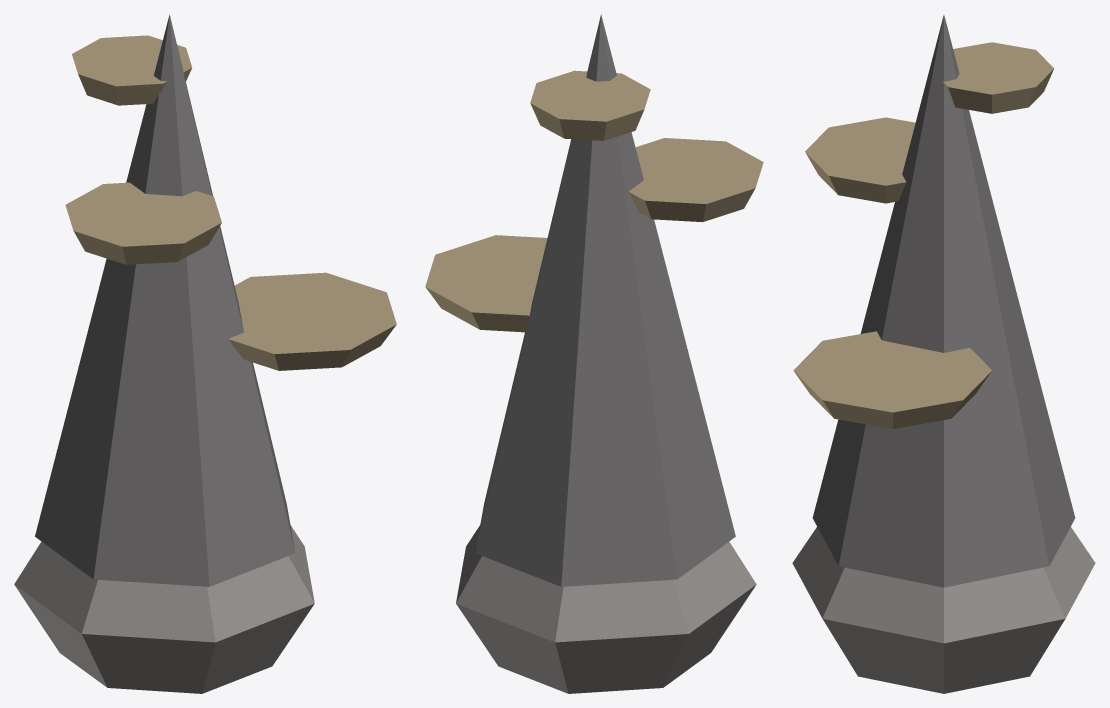
3 views of the same model, side by side, from view 1: azimuth 30°, elevation 25°; view 2: azimuth 150°, elevation 25°; view 3: azimuth 270°, elevation 25° (orthographic).
Visible parts, largest first — view 1: body; view 2: body; view 3: body.
Part boxes in pixels (<box>): body: <box>14,14,396,693</box>; body: <box>425,14,763,693</box>; body: <box>792,15,1095,693</box>.
Bounding box in the file's own units: 7.04 × 14.1 × 5.85.
